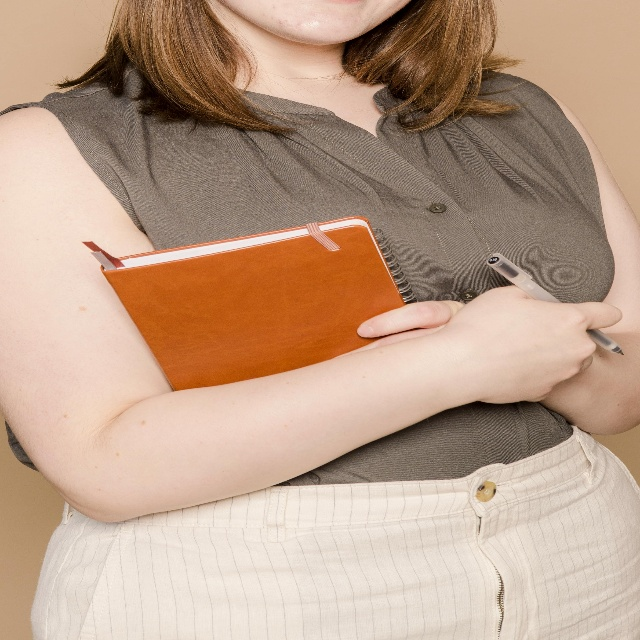Sin_guantes: (446, 285, 621, 405), (356, 299, 464, 350)
